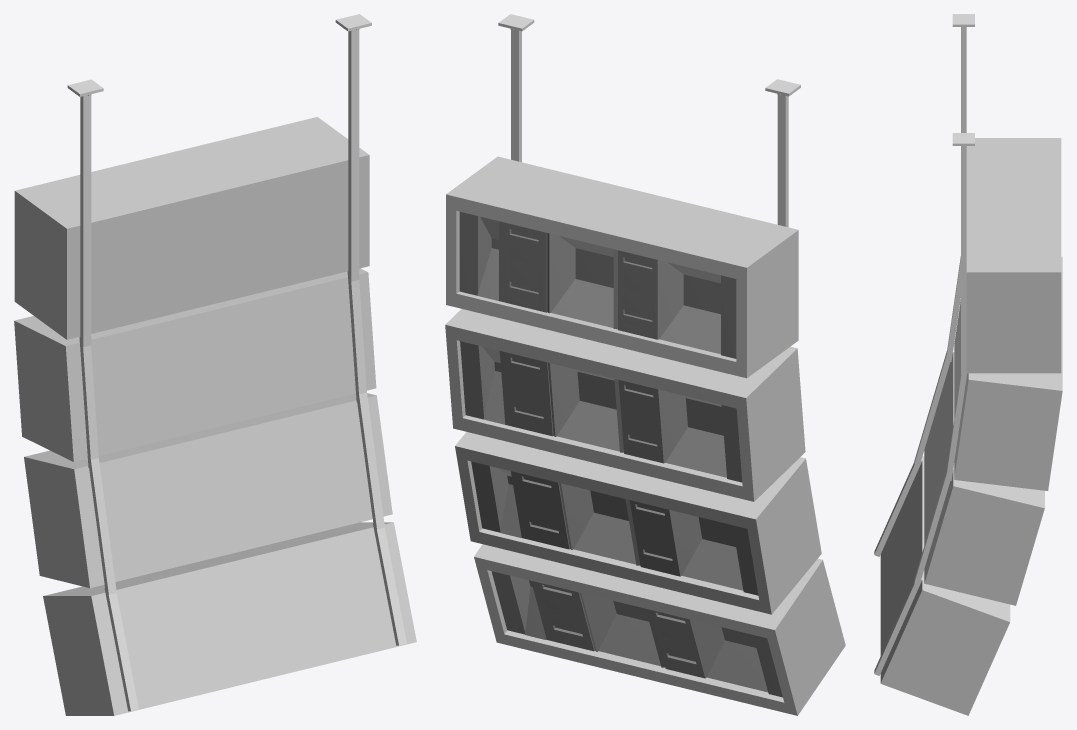
The model's file is Bocina.fbx.
3 views of the same model, side by side, from view 1: azimuth 30°, elevation 25°; view 2: azimuth 150°, elevation 25°; view 3: azimuth 270°, elevation 25° (orthographic). The views are drawn at different scales.
Parts seen in each view (by area): view 1: 036502a1-e009-f2c2-9f95-51810f1d5194_Mesh_120, 85e40c53-31c0-650a-9a69-74c13fb14c3b_Mesh_80, 66931e31-dfcd-4b9f-4885-1db8539fbbff_Mesh_40, 498c9c77-1649-b934-ea57-9cb4aa71afc3_Mesh_0, 7a986f8f-3a1b-16a7-c363-88a812fa387a_Mesh_3, 3b5b30df-d070-c484-b0ae-f907cdba6c2b_Mesh_4, 61ff7c32-2bbd-baa5-4ec1-28572dab6fb6_Mesh_44, ab0583d1-92a8-f87f-27c2-51d4c9de54a5_Mesh_84, ca511640-a26d-c1a8-736c-b9dfde305305_Mesh_124, 4d23572b-c935-0106-2c71-eaf961d64769_Mesh_123, 797e5ff5-8486-fb40-a0eb-1948344e83d1_Mesh_83, 73ba7b18-ae47-90d2-4e8e-a53c31cf5286_Mesh_43 (+18 smaller); view 2: 7a986f8f-3a1b-16a7-c363-88a812fa387a_Mesh_3, 73ba7b18-ae47-90d2-4e8e-a53c31cf5286_Mesh_43, 797e5ff5-8486-fb40-a0eb-1948344e83d1_Mesh_83, 61ff7c32-2bbd-baa5-4ec1-28572dab6fb6_Mesh_44, 3b5b30df-d070-c484-b0ae-f907cdba6c2b_Mesh_4, ab0583d1-92a8-f87f-27c2-51d4c9de54a5_Mesh_84, ca511640-a26d-c1a8-736c-b9dfde305305_Mesh_124, 4d23572b-c935-0106-2c71-eaf961d64769_Mesh_123, 84275fd7-4d5e-4698-a73f-adff74c1272e_Mesh_2, 6d80adeb-cc67-97eb-3375-e477d231fc8a_Mesh_42, c31b73c3-9abc-2521-69ce-c6acc031fbc4_Mesh_82, ae377e1c-c583-8d80-89ea-9a7294796b8c_Mesh_122 (+54 smaller); view 3: 7a986f8f-3a1b-16a7-c363-88a812fa387a_Mesh_3, 9479e6a3-388c-e0e9-d602-998fb7825ee1_Mesh_121, 19b5c39f-0fdf-caad-df91-7c5b81a31435_Mesh_81, f6516065-0698-14a8-d63a-5b24e96cbb72_Mesh_1, 9ef9aec0-8463-7856-c22f-209f8ef534cb_Mesh_41, 036502a1-e009-f2c2-9f95-51810f1d5194_Mesh_120, 85e40c53-31c0-650a-9a69-74c13fb14c3b_Mesh_80, 4d23572b-c935-0106-2c71-eaf961d64769_Mesh_123, 797e5ff5-8486-fb40-a0eb-1948344e83d1_Mesh_83, 73ba7b18-ae47-90d2-4e8e-a53c31cf5286_Mesh_43, 17e17be0-2323-ee7d-0dbb-b1c86ff133fb_Mesh_176, 64bb2375-819c-661c-387d-23bf84ad7e1b_Mesh_177 (+11 smaller).
Boxes of the visible parts, box(x1,y1,x2,y2) form: 036502a1-e009-f2c2-9f95-51810f1d5194_Mesh_120: box(104, 542, 393, 698); 85e40c53-31c0-650a-9a69-74c13fb14c3b_Mesh_80: box(87, 415, 370, 570); 66931e31-dfcd-4b9f-4885-1db8539fbbff_Mesh_40: box(77, 292, 354, 444); 498c9c77-1649-b934-ea57-9cb4aa71afc3_Mesh_0: box(77, 174, 348, 323); 7a986f8f-3a1b-16a7-c363-88a812fa387a_Mesh_3: box(26, 119, 348, 239); 3b5b30df-d070-c484-b0ae-f907cdba6c2b_Mesh_4: box(14, 188, 77, 339); 61ff7c32-2bbd-baa5-4ec1-28572dab6fb6_Mesh_44: box(14, 318, 84, 461); ab0583d1-92a8-f87f-27c2-51d4c9de54a5_Mesh_84: box(24, 454, 100, 588); ca511640-a26d-c1a8-736c-b9dfde305305_Mesh_124: box(43, 593, 124, 715); 4d23572b-c935-0106-2c71-eaf961d64769_Mesh_123: box(54, 525, 376, 608); 797e5ff5-8486-fb40-a0eb-1948344e83d1_Mesh_83: box(35, 394, 358, 481); 73ba7b18-ae47-90d2-4e8e-a53c31cf5286_Mesh_43: box(25, 271, 348, 357); 7a986f8f-3a1b-16a7-c363-88a812fa387a_Mesh_3: box(456, 159, 787, 278); 73ba7b18-ae47-90d2-4e8e-a53c31cf5286_Mesh_43: box(455, 311, 772, 408); 797e5ff5-8486-fb40-a0eb-1948344e83d1_Mesh_83: box(465, 434, 770, 528); 61ff7c32-2bbd-baa5-4ec1-28572dab6fb6_Mesh_44: box(735, 346, 805, 501); 3b5b30df-d070-c484-b0ae-f907cdba6c2b_Mesh_4: box(736, 227, 798, 378); ab0583d1-92a8-f87f-27c2-51d4c9de54a5_Mesh_84: box(745, 457, 821, 614); ca511640-a26d-c1a8-736c-b9dfde305305_Mesh_124: box(764, 558, 845, 715); 4d23572b-c935-0106-2c71-eaf961d64769_Mesh_123: box(484, 547, 778, 638); 84275fd7-4d5e-4698-a73f-adff74c1272e_Mesh_2: box(456, 291, 736, 375); 6d80adeb-cc67-97eb-3375-e477d231fc8a_Mesh_42: box(462, 415, 743, 499); c31b73c3-9abc-2521-69ce-c6acc031fbc4_Mesh_82: box(479, 528, 760, 611); ae377e1c-c583-8d80-89ea-9a7294796b8c_Mesh_122: box(504, 630, 786, 713); 7a986f8f-3a1b-16a7-c363-88a812fa387a_Mesh_3: box(966, 142, 1061, 267); 9479e6a3-388c-e0e9-d602-998fb7825ee1_Mesh_121: box(880, 585, 1010, 715); 19b5c39f-0fdf-caad-df91-7c5b81a31435_Mesh_81: box(924, 481, 1044, 605); f6516065-0698-14a8-d63a-5b24e96cbb72_Mesh_1: box(966, 267, 1061, 373); 9ef9aec0-8463-7856-c22f-209f8ef534cb_Mesh_41: box(954, 375, 1062, 490); 036502a1-e009-f2c2-9f95-51810f1d5194_Mesh_120: box(885, 473, 916, 666); 85e40c53-31c0-650a-9a69-74c13fb14c3b_Mesh_80: box(928, 370, 949, 566); 4d23572b-c935-0106-2c71-eaf961d64769_Mesh_123: box(917, 460, 1010, 617); 797e5ff5-8486-fb40-a0eb-1948344e83d1_Mesh_83: box(949, 356, 1044, 503); 73ba7b18-ae47-90d2-4e8e-a53c31cf5286_Mesh_43: box(967, 261, 1062, 386); 17e17be0-2323-ee7d-0dbb-b1c86ff133fb_Mesh_176: box(914, 350, 952, 465); 64bb2375-819c-661c-387d-23bf84ad7e1b_Mesh_177: box(914, 469, 950, 584).
Size of the model in its own units: 356 by 705 by 211.
